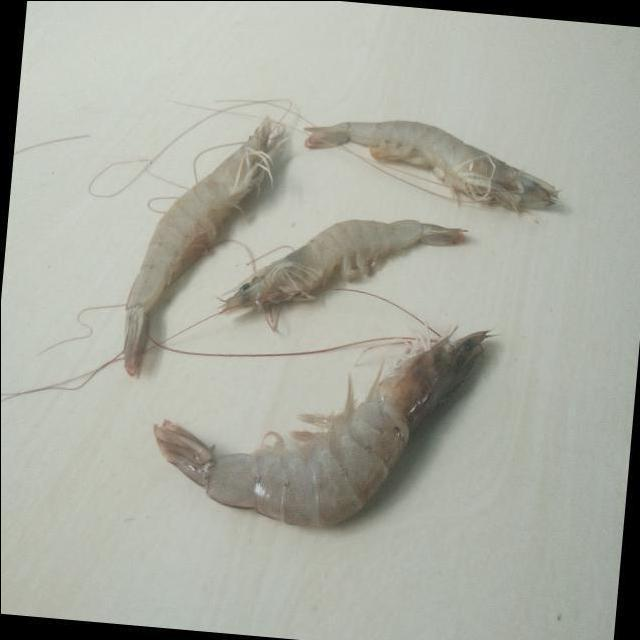shrimp: (153, 330, 490, 527), (123, 115, 272, 375), (223, 218, 465, 328), (304, 119, 558, 208)
